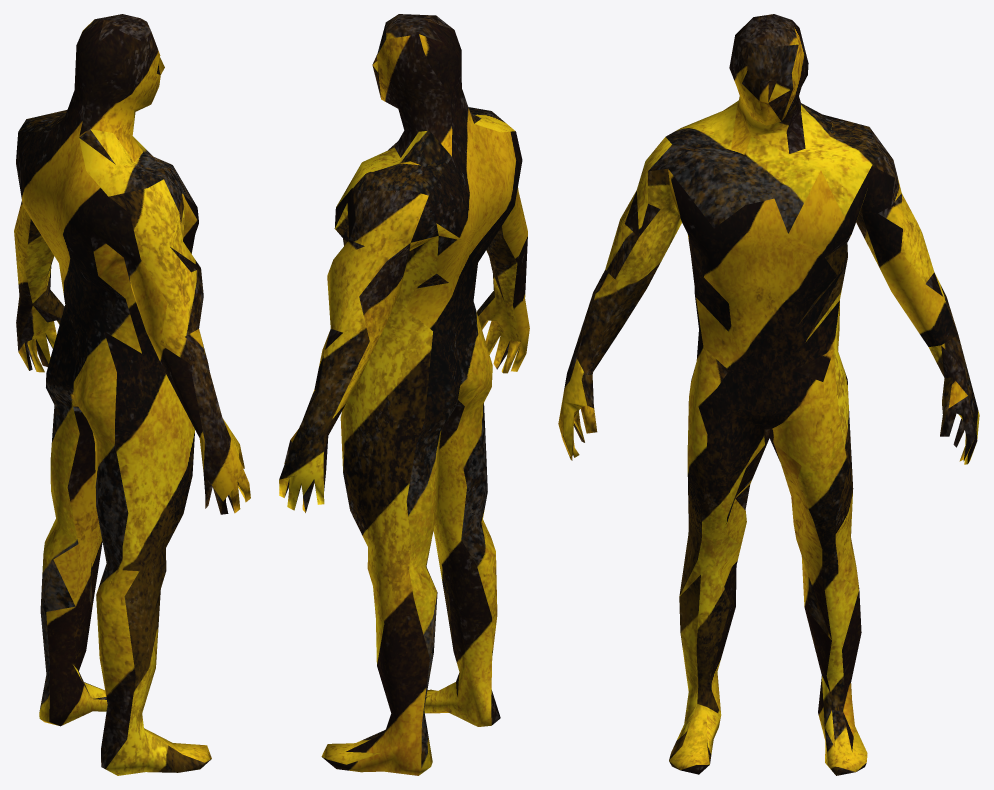
Rendered from TestHuman.fbx.
The picture shows the model from 3 angles, left to right: view 1: azimuth 30°, elevation 25°; view 2: azimuth 150°, elevation 25°; view 3: azimuth 270°, elevation 25°; orthographic projection.
Parts seen in each view (by area): view 1: MAINHuman; view 2: MAINHuman; view 3: MAINHuman.
Boxes of the visible parts, x1,y1,x2,y2 form: MAINHuman: (14, 14, 250, 775); MAINHuman: (279, 14, 529, 775); MAINHuman: (558, 14, 979, 775).
Bounding box in the file's own units: 0.0881 × 0.461 × 0.241.
1 material, 1 textured.
